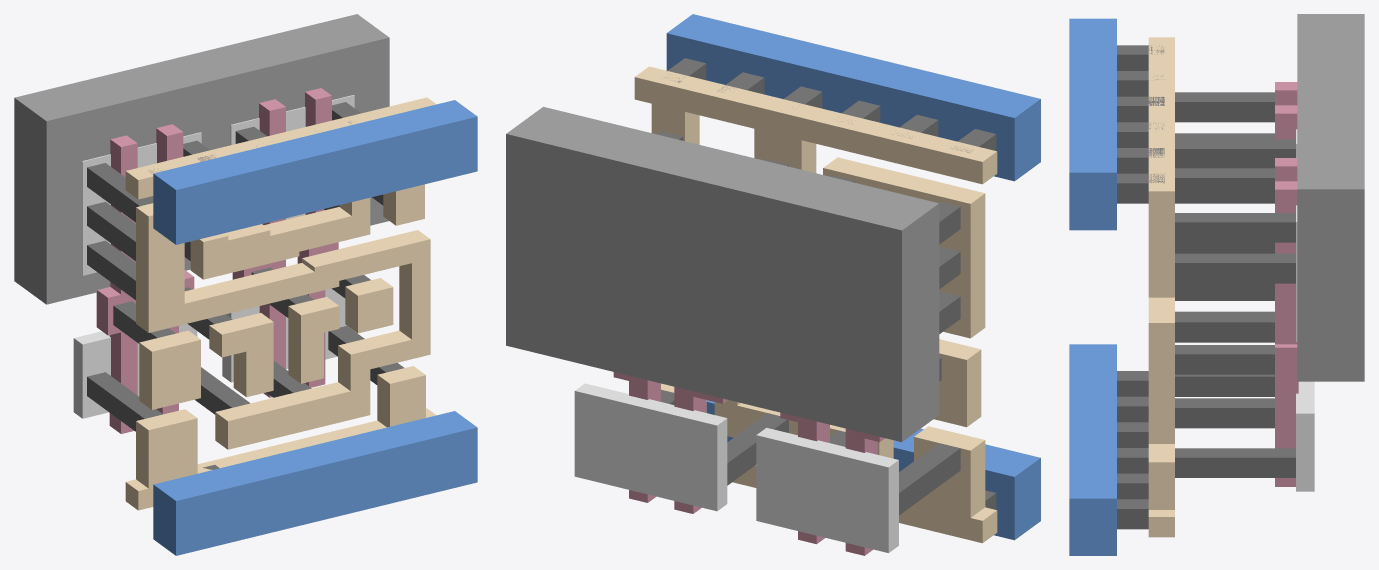
The model's file is sky130_fd_sc_hd__a22oi_1.gds.gltf.
The picture shows the model from 3 angles, left to right: view 1: azimuth 30°, elevation 25°; view 2: azimuth 150°, elevation 25°; view 3: azimuth 270°, elevation 25°; orthographic projection. The views are drawn at different scales.
Parts seen in each view (by area): view 1: sky130_fd_sc_hd__a22oi_1_li1, sky130_fd_sc_hd__a22oi_1_met1, sky130_fd_sc_hd__a22oi_1_nwell, sky130_fd_sc_hd__a22oi_1_licon, sky130_fd_sc_hd__a22oi_1_poly, sky130_fd_sc_hd__a22oi_1_diff; view 2: sky130_fd_sc_hd__a22oi_1_nwell, sky130_fd_sc_hd__a22oi_1_li1, sky130_fd_sc_hd__a22oi_1_diff, sky130_fd_sc_hd__a22oi_1_met1, sky130_fd_sc_hd__a22oi_1_licon, sky130_fd_sc_hd__a22oi_1_poly, sky130_fd_sc_hd__a22oi_1_mcon; view 3: sky130_fd_sc_hd__a22oi_1_licon, sky130_fd_sc_hd__a22oi_1_nwell, sky130_fd_sc_hd__a22oi_1_met1, sky130_fd_sc_hd__a22oi_1_li1, sky130_fd_sc_hd__a22oi_1_mcon, sky130_fd_sc_hd__a22oi_1_poly, sky130_fd_sc_hd__a22oi_1_diff.
Boxes of the visible parts, x1,y1,x2,y2 form: sky130_fd_sc_hd__a22oi_1_li1: (125,97,436,510); sky130_fd_sc_hd__a22oi_1_met1: (153,100,477,555); sky130_fd_sc_hd__a22oi_1_nwell: (14,14,389,304); sky130_fd_sc_hd__a22oi_1_licon: (87,102,403,431); sky130_fd_sc_hd__a22oi_1_poly: (96,88,338,433); sky130_fd_sc_hd__a22oi_1_diff: (73,95,354,418); sky130_fd_sc_hd__a22oi_1_nwell: (506,106,939,441); sky130_fd_sc_hd__a22oi_1_li1: (634,66,997,543); sky130_fd_sc_hd__a22oi_1_diff: (574,383,898,553); sky130_fd_sc_hd__a22oi_1_met1: (666,14,1040,540); sky130_fd_sc_hd__a22oi_1_licon: (657,131,960,515); sky130_fd_sc_hd__a22oi_1_poly: (613,372,884,555); sky130_fd_sc_hd__a22oi_1_mcon: (662,58,996,509); sky130_fd_sc_hd__a22oi_1_licon: (1175,92,1295,477); sky130_fd_sc_hd__a22oi_1_nwell: (1297,14,1364,381); sky130_fd_sc_hd__a22oi_1_met1: (1069,18,1116,555); sky130_fd_sc_hd__a22oi_1_li1: (1148,37,1174,537); sky130_fd_sc_hd__a22oi_1_mcon: (1117,45,1164,529); sky130_fd_sc_hd__a22oi_1_poly: (1275,82,1298,486); sky130_fd_sc_hd__a22oi_1_diff: (1296,129,1314,491).
Size of the model in its own units: 3.14 by 3.2 by 2.24.
